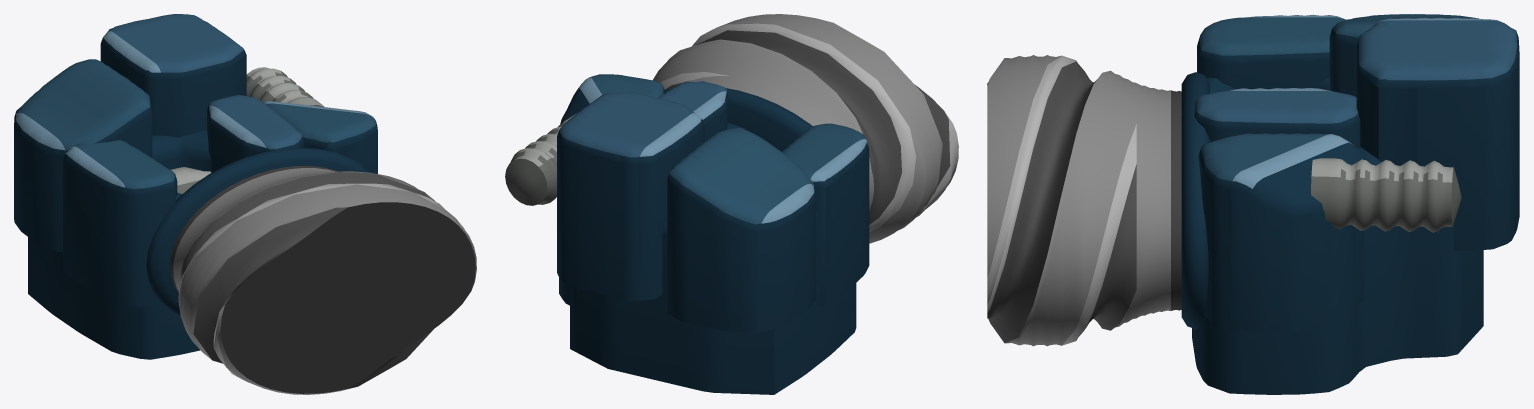
Rendered from drillrig_head_3.glb.
3 views of the same model, side by side, from view 1: azimuth 30°, elevation 25°; view 2: azimuth 150°, elevation 25°; view 3: azimuth 270°, elevation 25° (orthographic). The views are drawn at different scales.
Parts seen in each view (by area): view 1: drill.001, cheek_l.001, shoulder.001, crown.001, housing.001, collar.001, middle.001, cheek_r.001, piston.001, hatch.001; view 2: drill.001, shoulder.001, crown.001, housing.001, cheek_l.001, piston.001, collar.001, middle.001, cheek_r.001; view 3: drill.001, housing.001, crown.001, cheek_r.001, piston.001, cheek_l.001, middle.001, collar.001, shoulder.001.
Part boxes in pixels (left/top/right/bottom): drill.001: left=170, top=166, right=476, bottom=394; cheek_l.001: left=63, top=140, right=177, bottom=307; shoulder.001: left=14, top=59, right=152, bottom=252; crown.001: left=100, top=14, right=246, bottom=137; housing.001: left=28, top=130, right=211, bottom=359; collar.001: left=146, top=148, right=369, bottom=316; middle.001: left=207, top=95, right=304, bottom=172; cheek_r.001: left=264, top=101, right=377, bottom=173; piston.001: left=246, top=67, right=324, bottom=106; hatch.001: left=171, top=167, right=211, bottom=193; drill.001: left=653, top=14, right=958, bottom=243; shoulder.001: left=667, top=127, right=816, bottom=333; crown.001: left=557, top=92, right=704, bottom=301; housing.001: left=559, top=123, right=856, bottom=394; cheek_l.001: left=782, top=123, right=869, bottom=306; piston.001: left=505, top=113, right=576, bottom=205; collar.001: left=664, top=88, right=812, bottom=151; middle.001: left=658, top=81, right=728, bottom=141; cheek_r.001: left=560, top=74, right=664, bottom=124; drill.001: left=987, top=55, right=1181, bottom=346; housing.001: left=1192, top=77, right=1483, bottom=394; crown.001: left=1356, top=18, right=1519, bottom=251; cheek_r.001: left=1198, top=133, right=1366, bottom=332; piston.001: left=1311, top=158, right=1461, bottom=232; cheek_l.001: left=1197, top=15, right=1345, bottom=89; middle.001: left=1194, top=88, right=1360, bottom=148; collar.001: left=1181, top=72, right=1210, bottom=328; shoulder.001: left=1329, top=14, right=1478, bottom=96.
Size of the model in its own units: 21.52 by 16.2 by 27.82.
